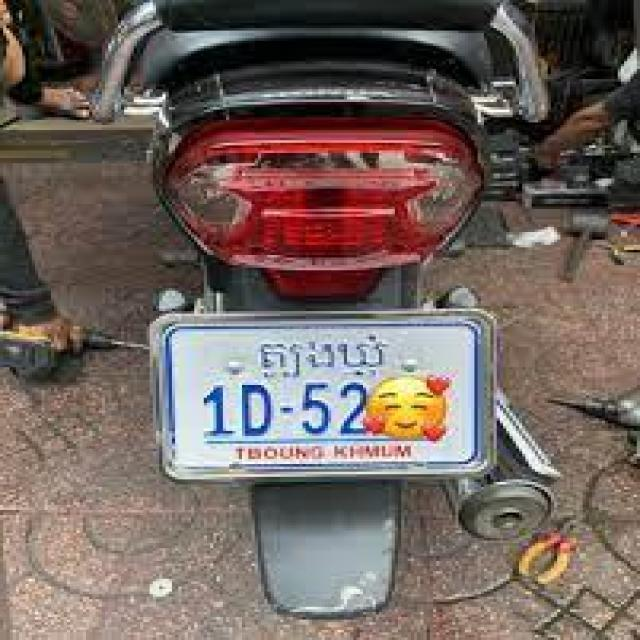Tboung_Khmum: (258, 332, 388, 382)
